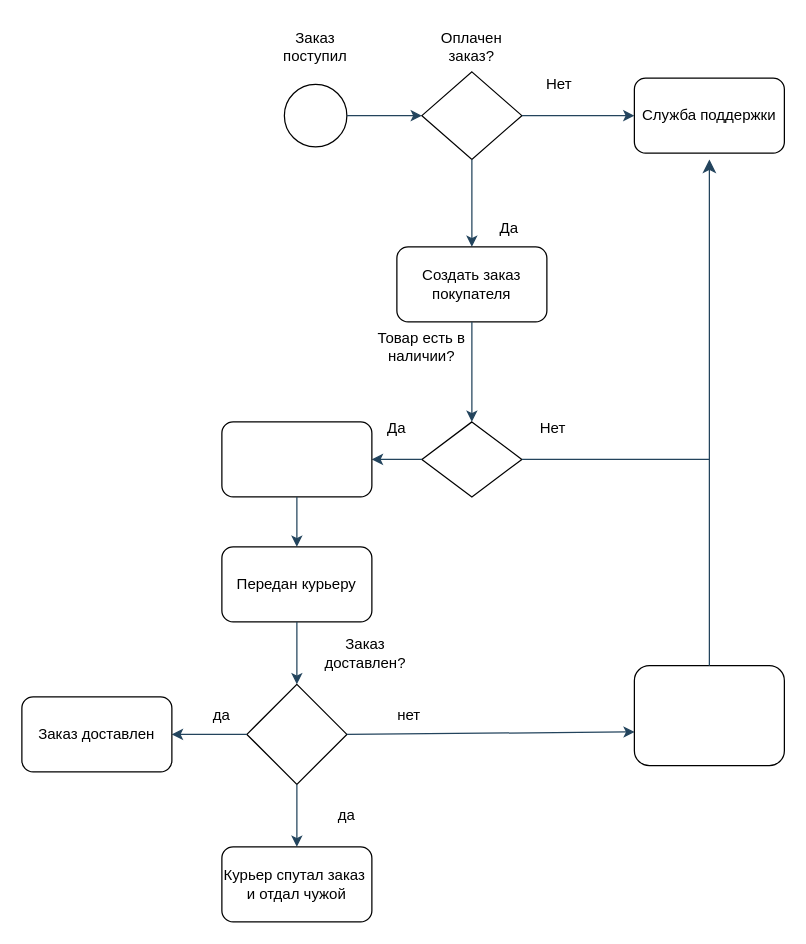
Image size: 806x944. Some labels were removed from this diagram. Each missing label, with the centre of its shape:
Подготовка к отправке: [296,459]
Трудности с доставкой (погодные условия, курьер отдал посылку по другому адресу): [708,715]
